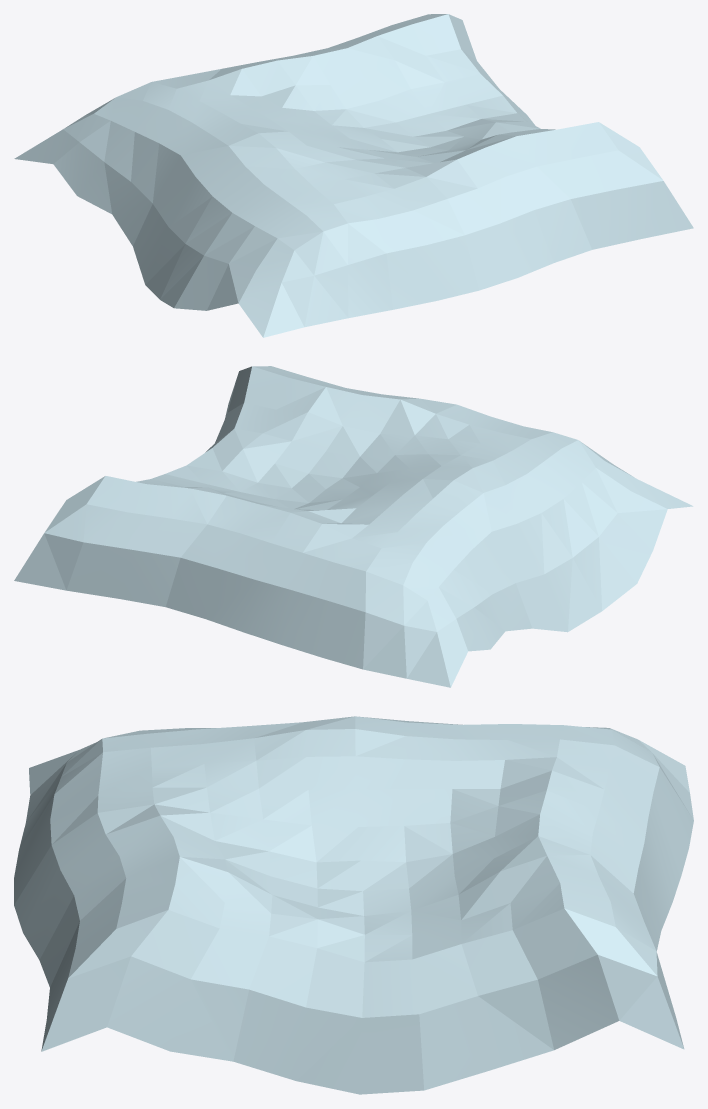
Rendered from Zanja02.glb.
3 views of the same model, one above another, from view 1: azimuth 30°, elevation 25°; view 2: azimuth 150°, elevation 25°; view 3: azimuth 270°, elevation 25° (orthographic). The views are drawn at different scales.
Parts seen in each view (by area): view 1: SM_Env_Trench_02_Snow; view 2: SM_Env_Trench_02_Snow; view 3: SM_Env_Trench_02_Snow.
Boxes of the visible parts, box(x1,y1,x2,y2) form: SM_Env_Trench_02_Snow: box(14, 14, 693, 337); SM_Env_Trench_02_Snow: box(14, 366, 693, 687); SM_Env_Trench_02_Snow: box(14, 716, 693, 1094).
Size of the model in its own units: 6.76 by 1.77 by 6.6.
1 material, 1 textured.
